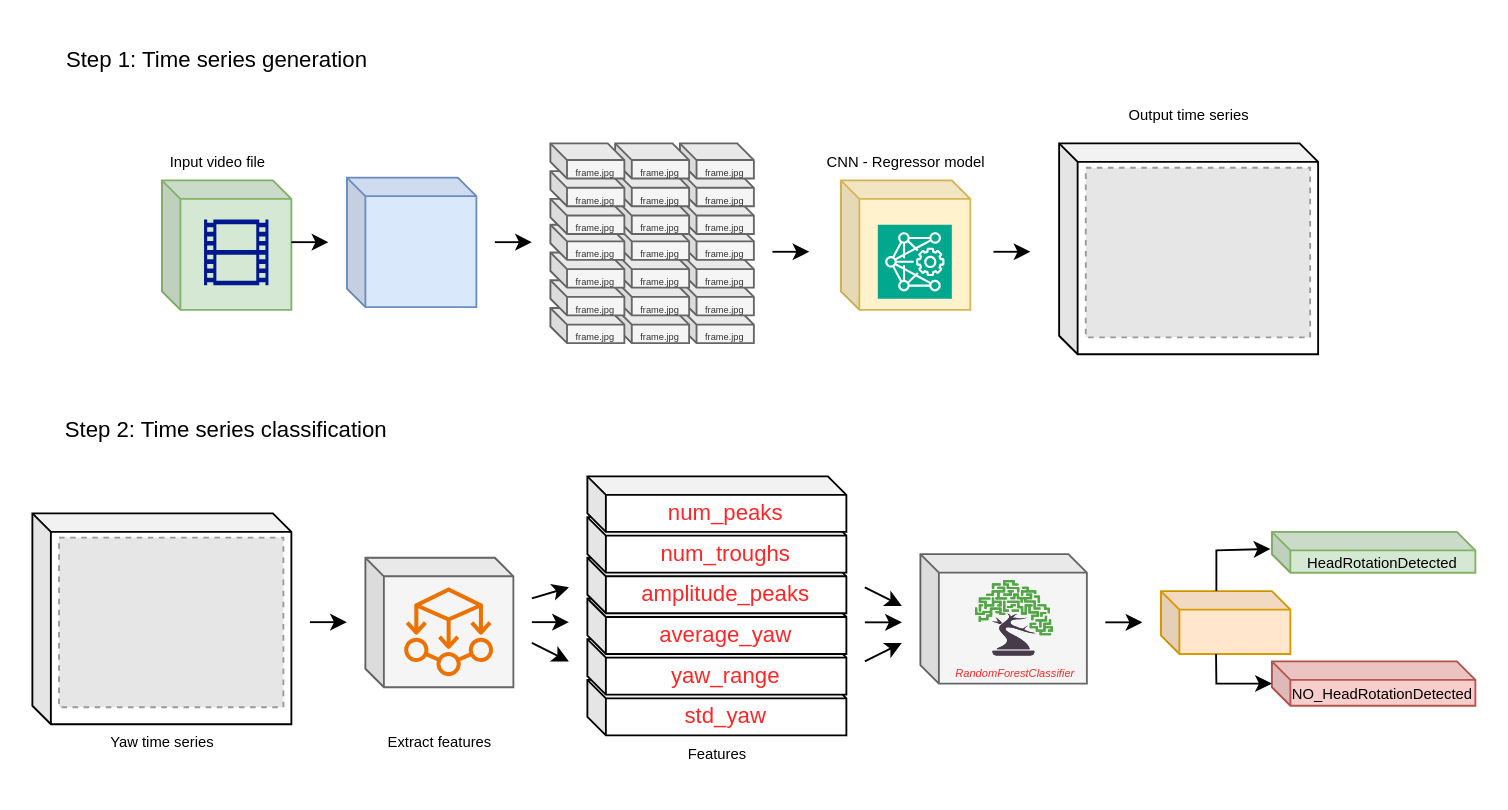
Some shapes in this 1508 by 810 pixel diagram are drawn without their labels. Grey dashed boxes stand in for pictures. Each missing label, with the centre of its shape:
"Classify" goes at pixel 1224 621.
"Split video into frames" goes at pixel 410 241.
